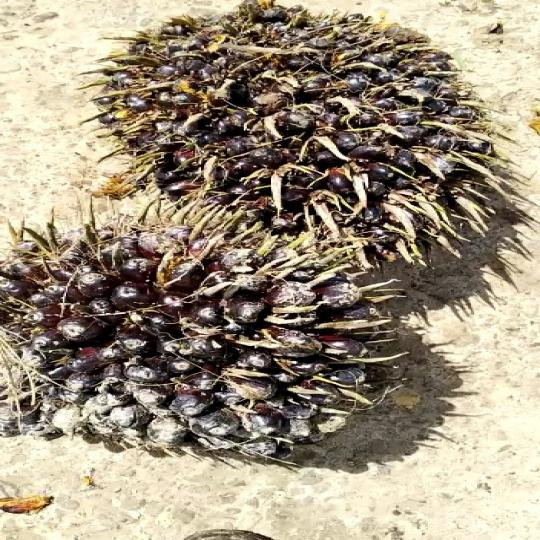mentah: (75, 0, 536, 273), (0, 196, 430, 474)
